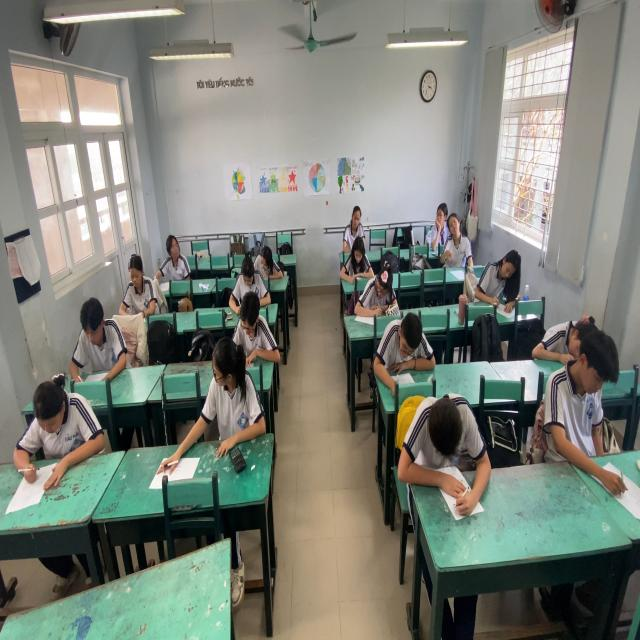cheating: (199, 337, 270, 443), (150, 232, 189, 281)
not_cheating: (12, 378, 94, 460), (555, 326, 623, 423), (413, 391, 479, 488), (374, 294, 430, 374), (230, 288, 281, 368), (67, 302, 121, 374), (533, 312, 601, 361), (483, 247, 535, 298), (123, 253, 156, 322), (358, 257, 399, 312), (226, 257, 269, 305), (341, 233, 376, 282), (440, 218, 469, 271), (251, 239, 285, 281), (426, 195, 452, 243), (343, 208, 370, 239)
